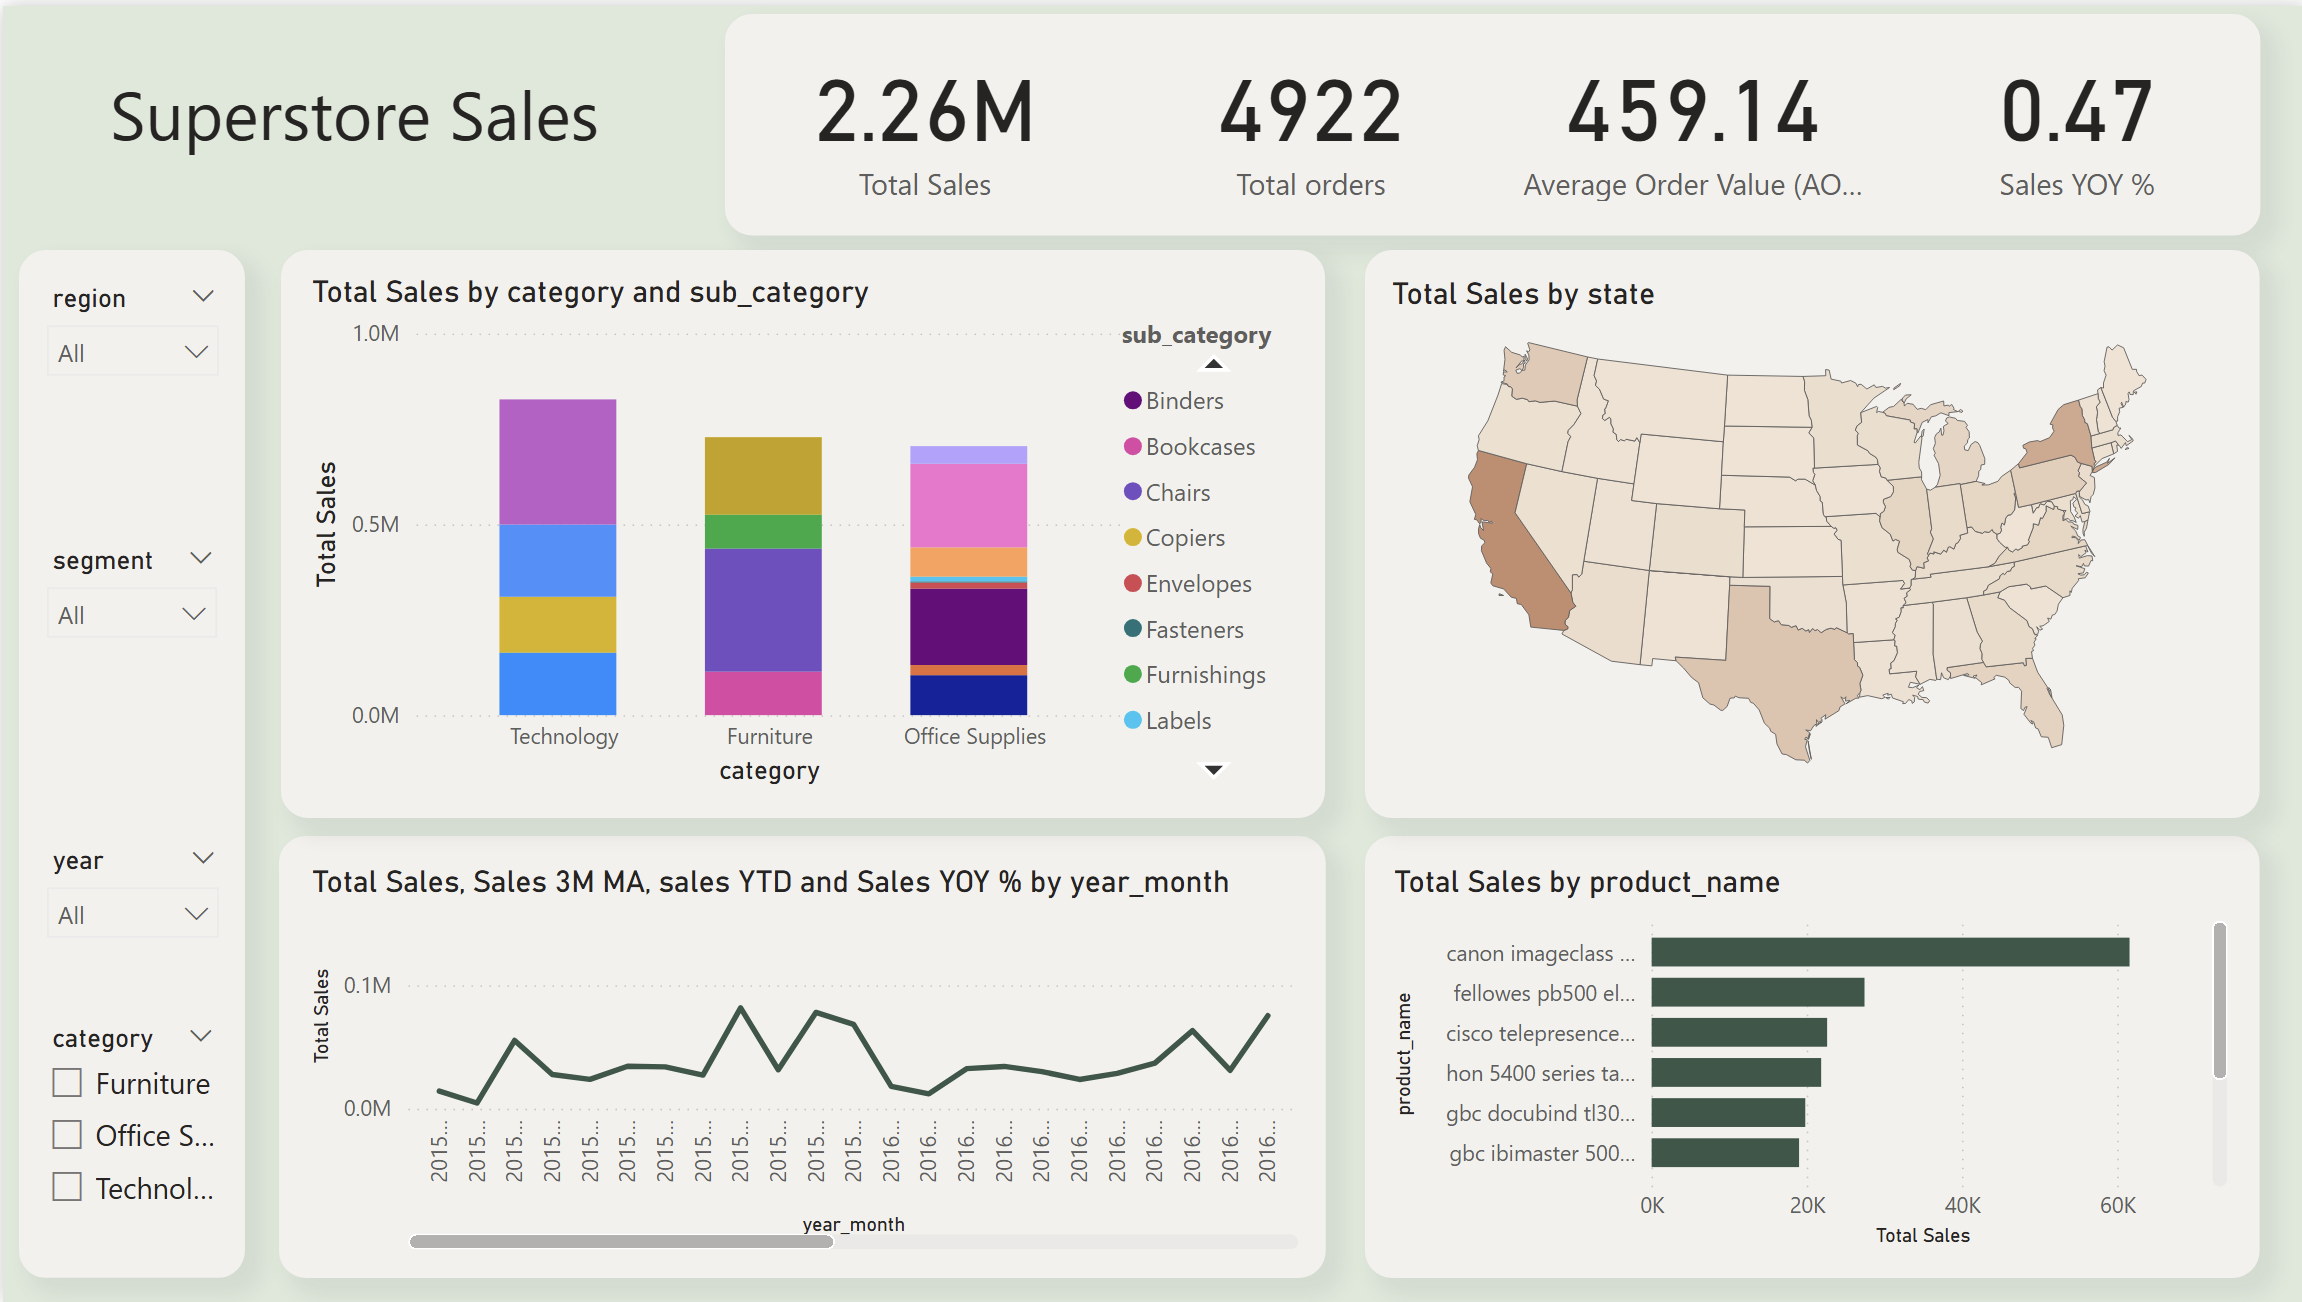

Layout of this report page (visuals, bound fields, positions):
{"tool":"powerbi","page":{"name":"Page 1","canvas":[1280,720],"ordinal":0},"visuals":[{"type":"shape","box":[8.9,135.6,125.6,571.1],"z":0},{"type":"shape","box":[401.4,4.3,852.9,122.9],"z":1000},{"type":"shape","box":[153.3,461.4,581.4,245.7],"z":2000},{"type":"shape","box":[757.1,461.4,497.1,245.7],"z":3000},{"type":"shape","box":[757.1,135.7,497.1,315.7],"z":4000},{"type":"shape","box":[154.3,135.7,580,315.7],"z":5000},{"type":"card","fields":{"Values":["All Measures.Total Sales"]},"box":[411.9,12.9,200,100],"z":6000},{"type":"card","fields":{"Values":["All Measures.Total orders"]},"box":[626.1,12.9,200,100],"z":7000},{"type":"card","fields":{"Values":["All Measures.Average Order Value (AOV)"]},"box":[839,12.9,200,100],"z":8000},{"type":"card","fields":{"Values":["All Measures.Sales YOY %"]},"box":[1051.9,12.9,200,100],"z":9000},{"type":"lineChart","fields":{"Y":["All Measures.Total Sales"],"Category":["Table.year_month"]},"box":[166.7,476.7,557.8,218.9],"z":10000},{"type":"columnChart","fields":{"Category":["superstore_sales_cleaned.category"],"Series":["superstore_sales_cleaned.sub_category"],"Y":["All Measures.Total Sales"]},"box":[167.1,149,560,288.6],"z":11000},{"type":"clusteredBarChart","fields":{"Y":["All Measures.Total Sales"],"Category":["superstore_sales_cleaned.product_name"]},"box":[767.8,477.1,472.9,217.1],"z":12000},{"type":"shapeMap","fields":{"Value":["All Measures.Total Sales"],"Category":["superstore_sales_cleaned.state"]},"box":[767.1,150.4,471.4,288.6],"z":13000},{"type":"slicer","fields":{"Values":["Table.year"]},"box":[14.3,461.4,115.7,70],"z":14000},{"type":"slicer","fields":{"Values":["superstore_sales_cleaned.region"]},"box":[14.3,148.6,115.7,70],"z":15000},{"type":"slicer","fields":{"Values":["superstore_sales_cleaned.category"]},"box":[14.3,560,114.3,122.9],"z":16000},{"type":"slicer","fields":{"Values":["superstore_sales_cleaned.segment"]},"box":[14.3,294.3,114.3,70],"z":17000},{"type":"textbox","box":[54.4,28.9,330,84.4],"z":18000}]}

Visuals, with their boxes in screenshot pixels (x1, y1, x2, y2), scaled from the page's 1280x720 canvas onto the 2302x1302 screenshot:
shape: BBox(16, 245, 242, 1278)
shape: BBox(722, 8, 2256, 230)
shape: BBox(276, 834, 1321, 1279)
shape: BBox(1362, 834, 2256, 1279)
shape: BBox(1362, 245, 2256, 816)
shape: BBox(277, 245, 1321, 816)
card - All Measures.Total Sales: BBox(741, 23, 1100, 204)
card - All Measures.Total orders: BBox(1126, 23, 1486, 204)
card - All Measures.Average Order Value (AOV): BBox(1509, 23, 1869, 204)
card - All Measures.Sales YOY %: BBox(1892, 23, 2251, 204)
lineChart - All Measures.Total Sales x Table.year_month: BBox(300, 862, 1303, 1258)
columnChart - superstore_sales_cleaned.category x superstore_sales_cleaned.sub_category: BBox(301, 269, 1308, 791)
clusteredBarChart - All Measures.Total Sales x superstore_sales_cleaned.product_name: BBox(1381, 863, 2231, 1255)
shapeMap - All Measures.Total Sales x superstore_sales_cleaned.state: BBox(1380, 272, 2227, 794)
slicer - Table.year: BBox(26, 834, 234, 961)
slicer - superstore_sales_cleaned.region: BBox(26, 269, 234, 395)
slicer - superstore_sales_cleaned.category: BBox(26, 1013, 231, 1235)
slicer - superstore_sales_cleaned.segment: BBox(26, 532, 231, 659)
textbox: BBox(98, 52, 691, 205)
